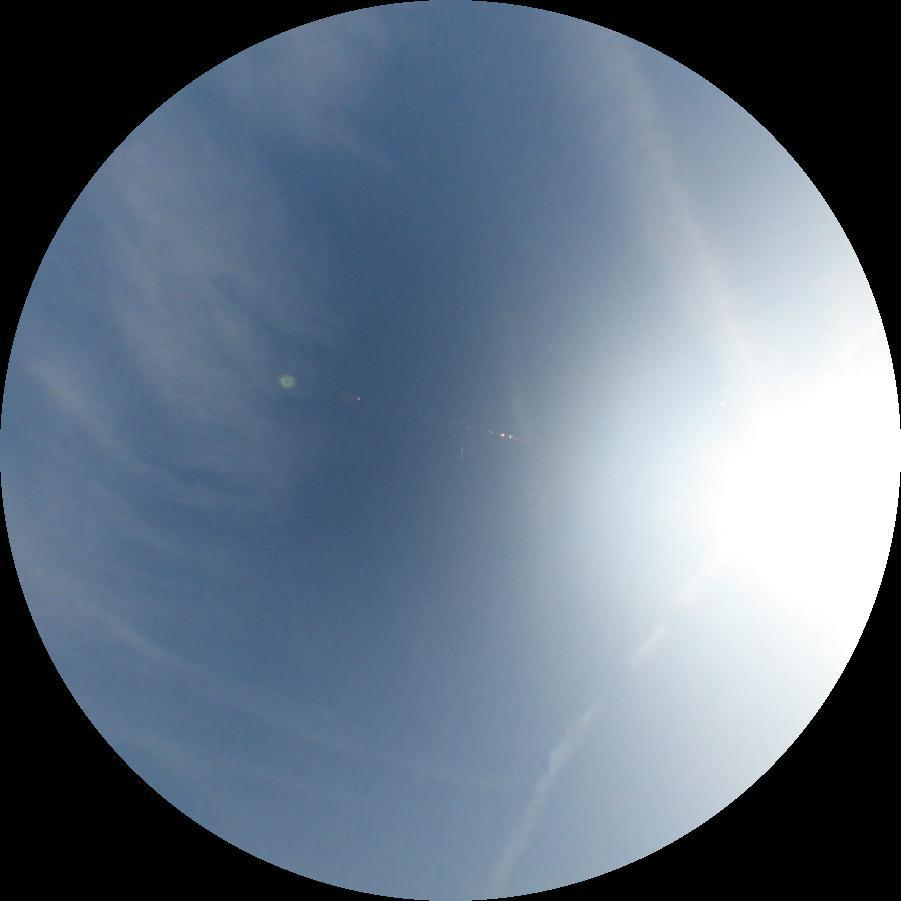contrail veryold: (89, 620, 529, 811)
